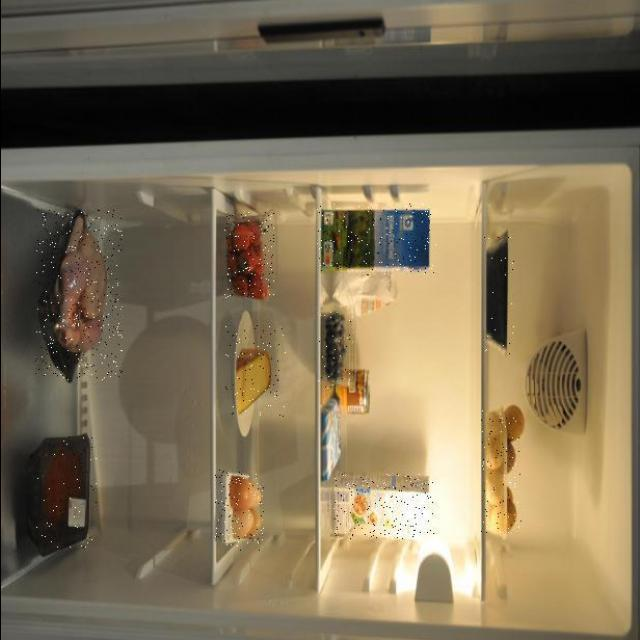Carne pollo: (34, 210, 122, 380)
Huevos: (214, 470, 263, 551)
Patata: (481, 408, 521, 535)
Queso: (225, 325, 285, 417)
Tomate: (224, 212, 274, 298)
meat: (34, 436, 96, 551), (482, 237, 513, 357)
milk: (316, 203, 436, 275), (333, 474, 434, 540)
olive: (315, 312, 351, 390)
